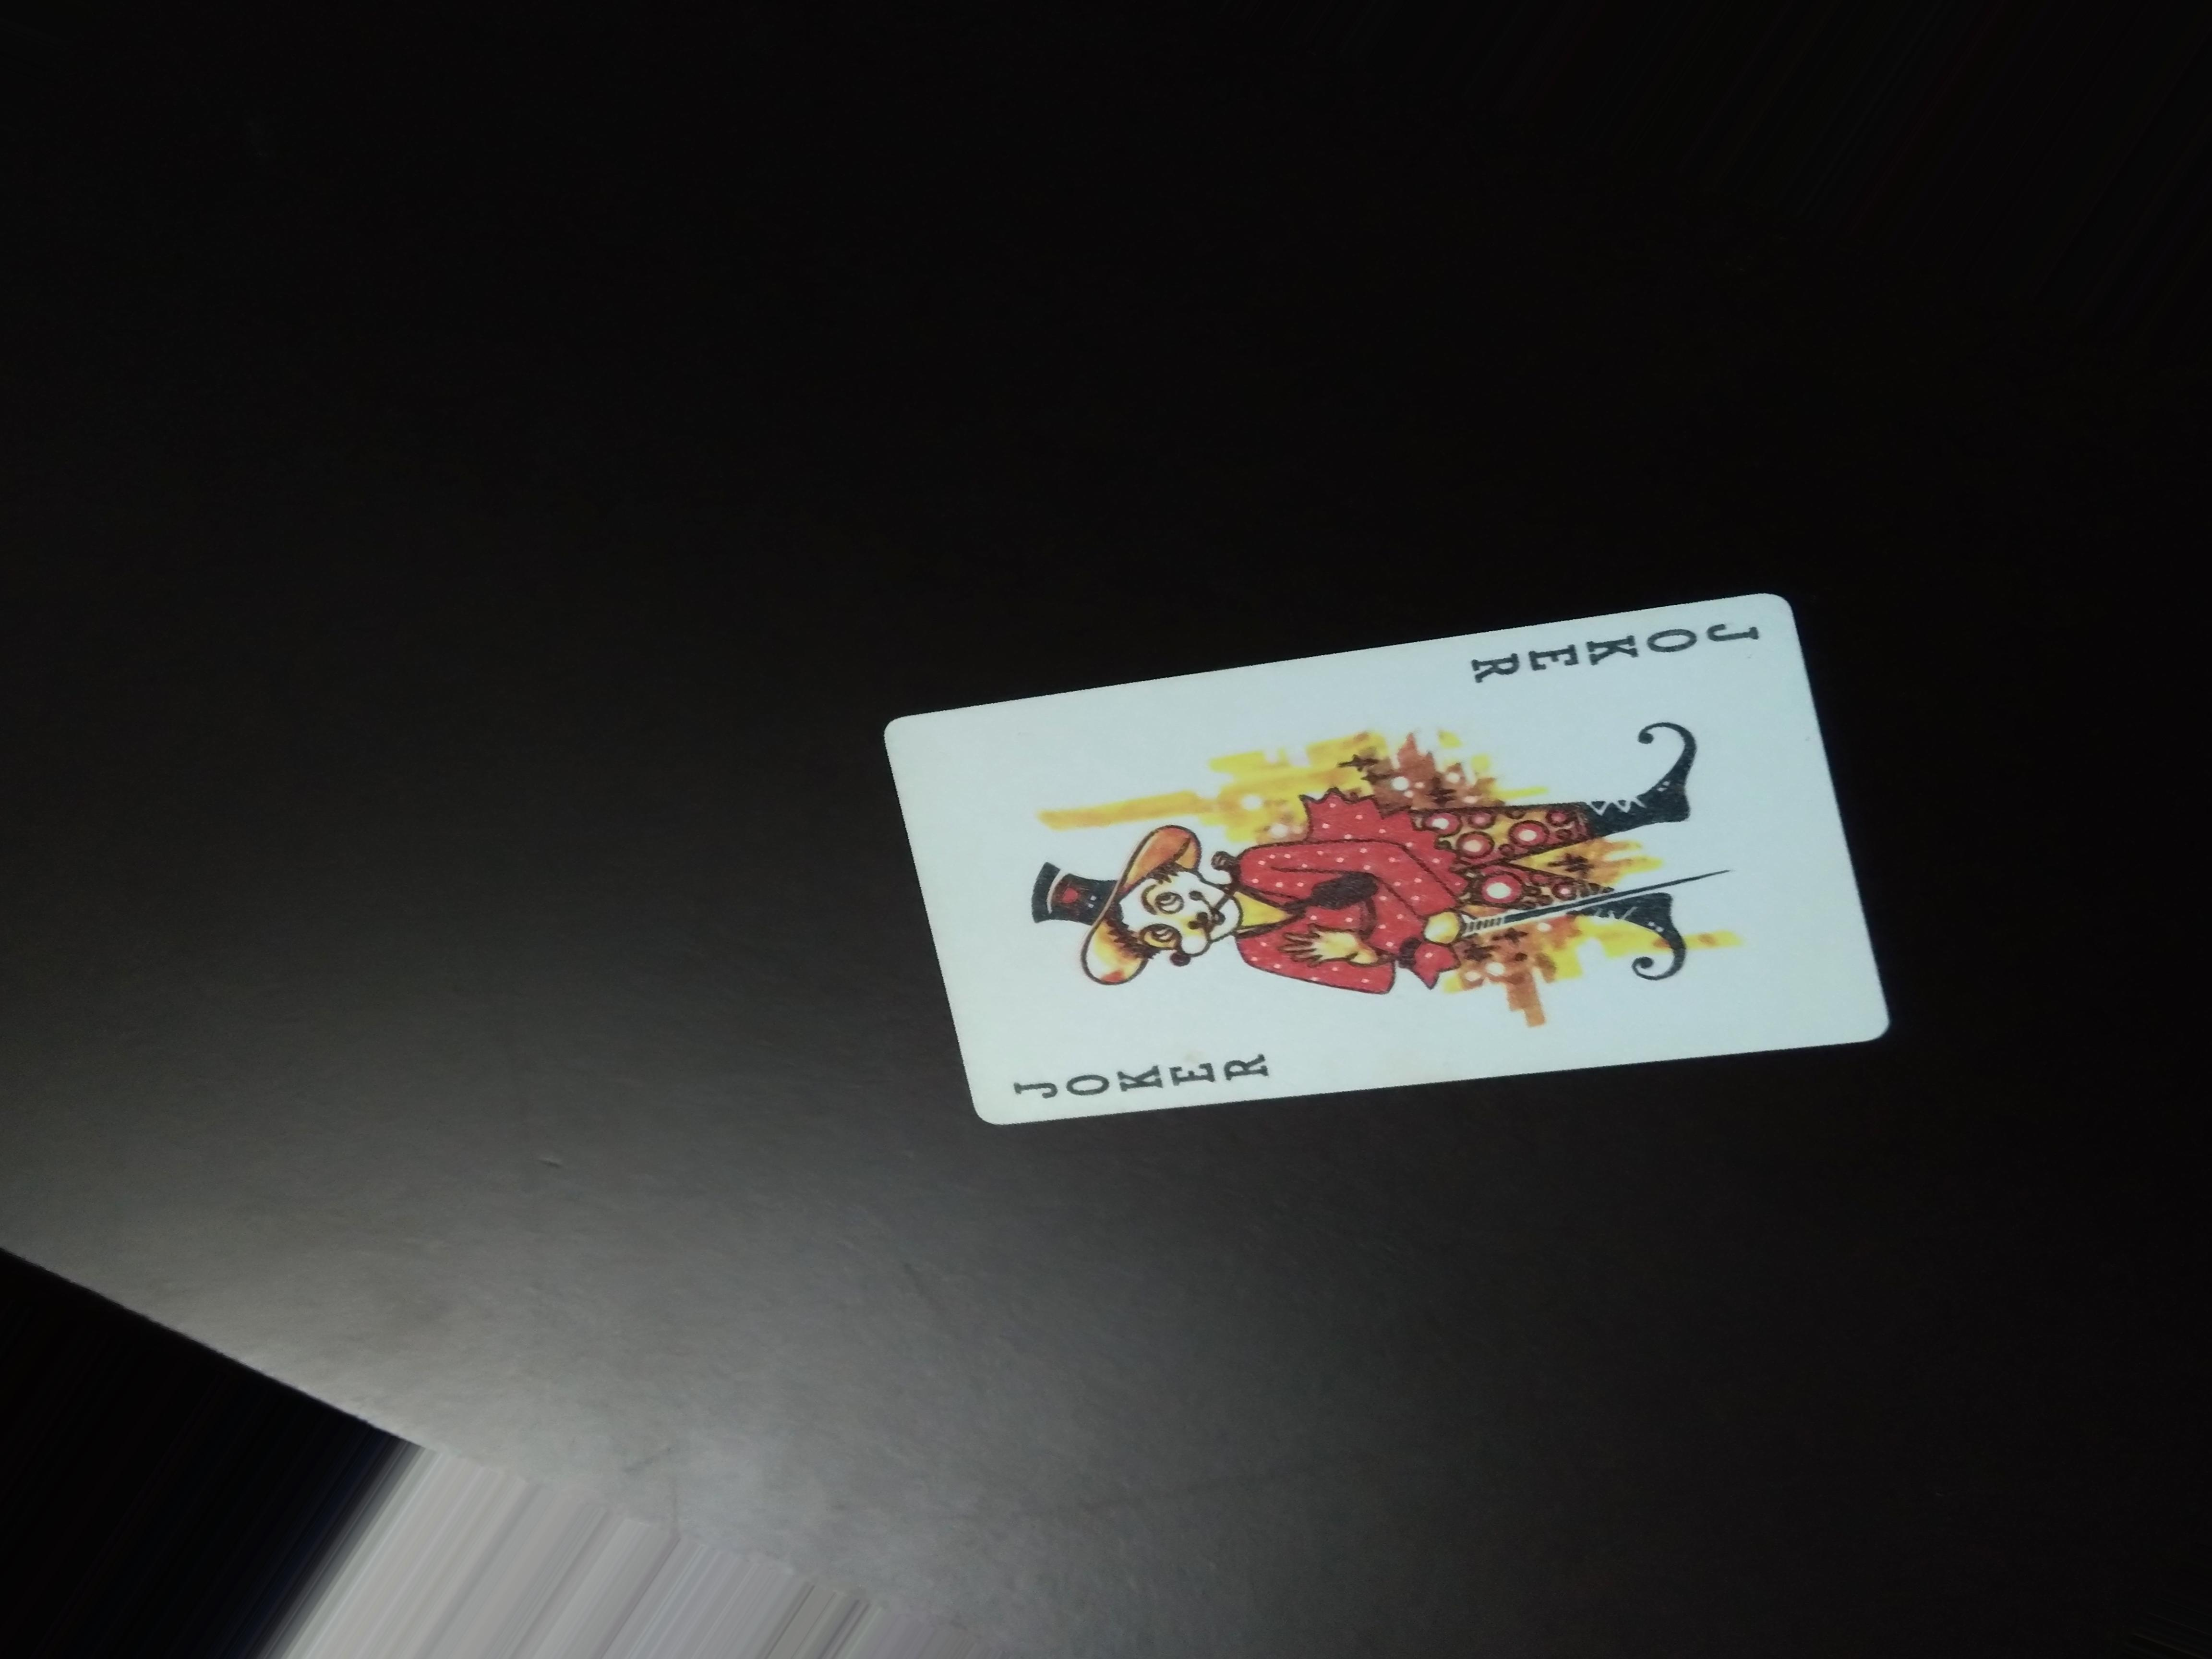JOKER: (1463, 589, 1766, 694)
